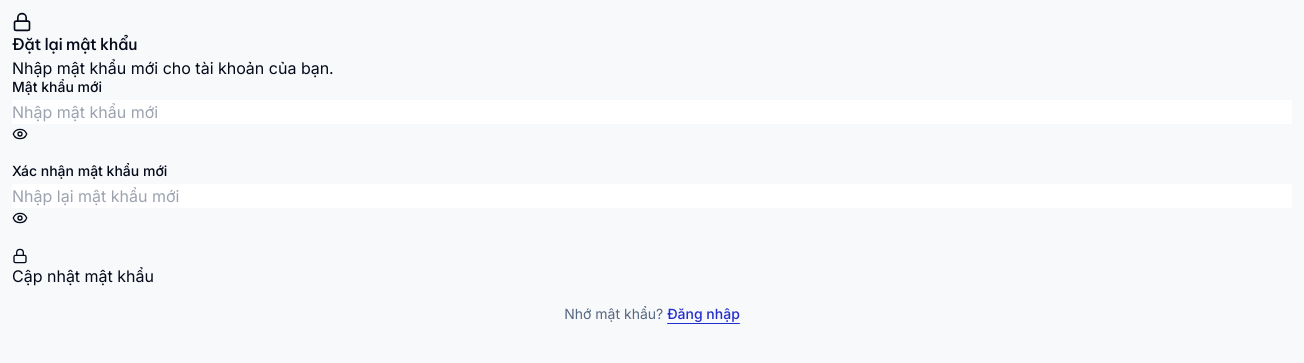
Test case: ResetPasswordPage › shows validation error for mismatched passwords
This screenshot has width=1304, height=363.
Type "password123" into the password field labelled "Mật khẩu mới" at (652, 112), box [12,100,1292,124]
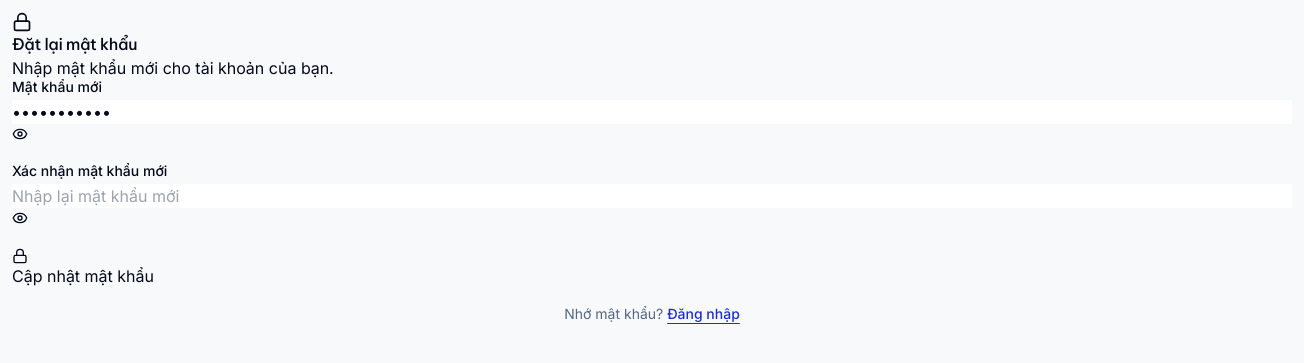
Type "different" into the password field labelled "Xác nhận mật khẩu mới" at (652, 196), box [12,184,1292,208]
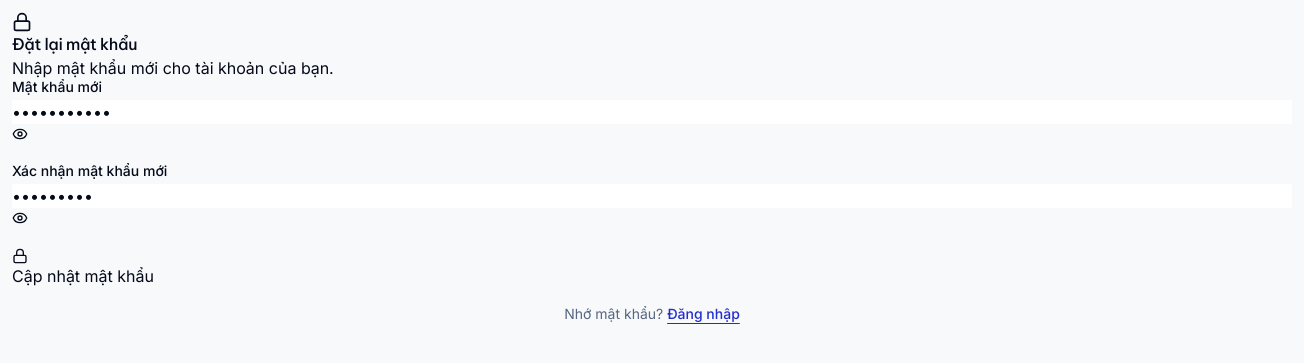
Click the button "Cập nhật mật khẩu" at (83, 268), box [12,248,154,288]
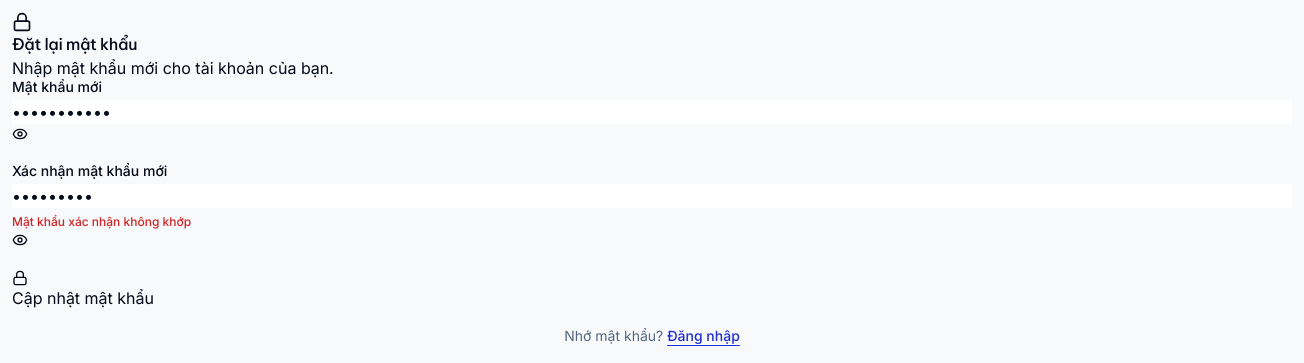
Now the text "Mật khẩu xác nhận không khớp" is shown, box [12,214,191,229]
